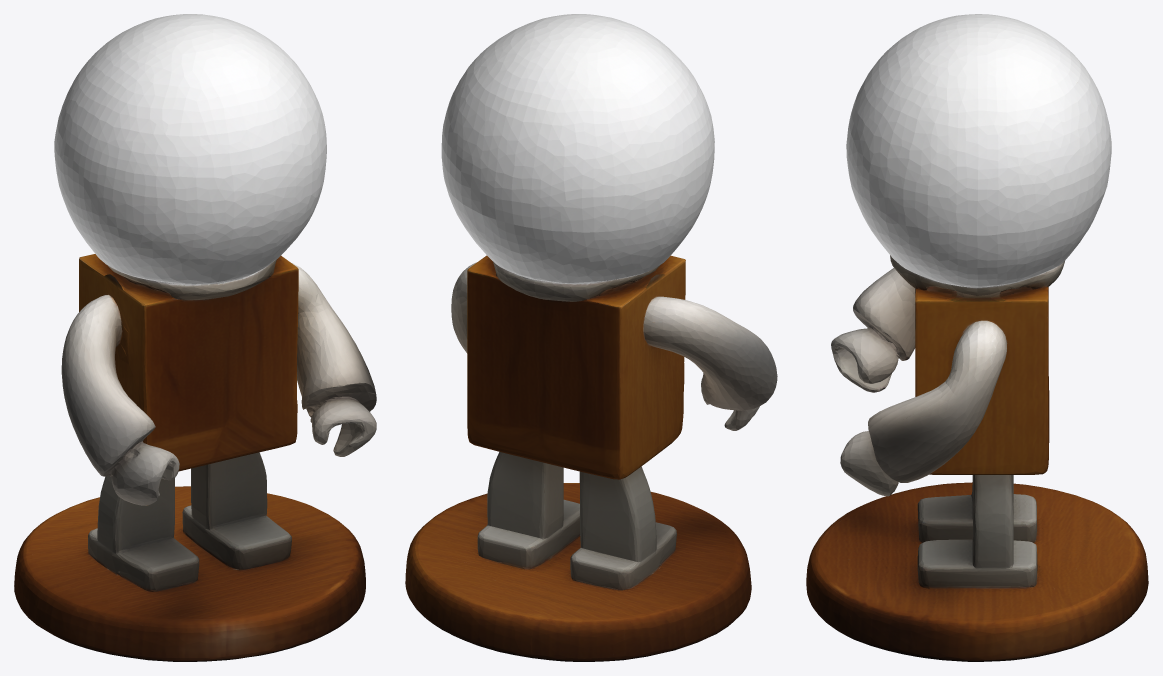
File: lamp.glb
3 renders of one model, left to right at view 1: azimuth 30°, elevation 25°; view 2: azimuth 150°, elevation 25°; view 3: azimuth 270°, elevation 25°, orthographic.
Visible parts, largest first — view 1: world; view 2: world; view 3: world.
Boxes of the visible parts, left/top/right/bottom form: world: left=14, top=14, right=376, bottom=661; world: left=405, top=14, right=777, bottom=661; world: left=806, top=14, right=1148, bottom=661.
Bounding box in the file's own units: 0.5662 × 1 × 0.5521.
1 material, 1 textured.
